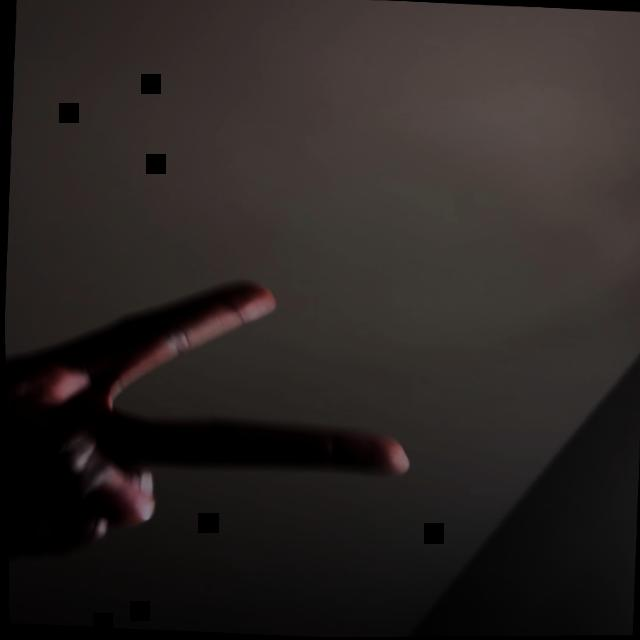Scissors: (3, 271, 415, 589)
